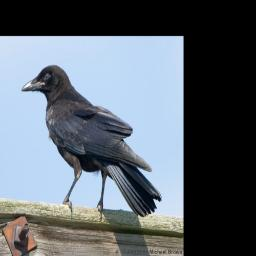Crow: (21, 65, 162, 217)
